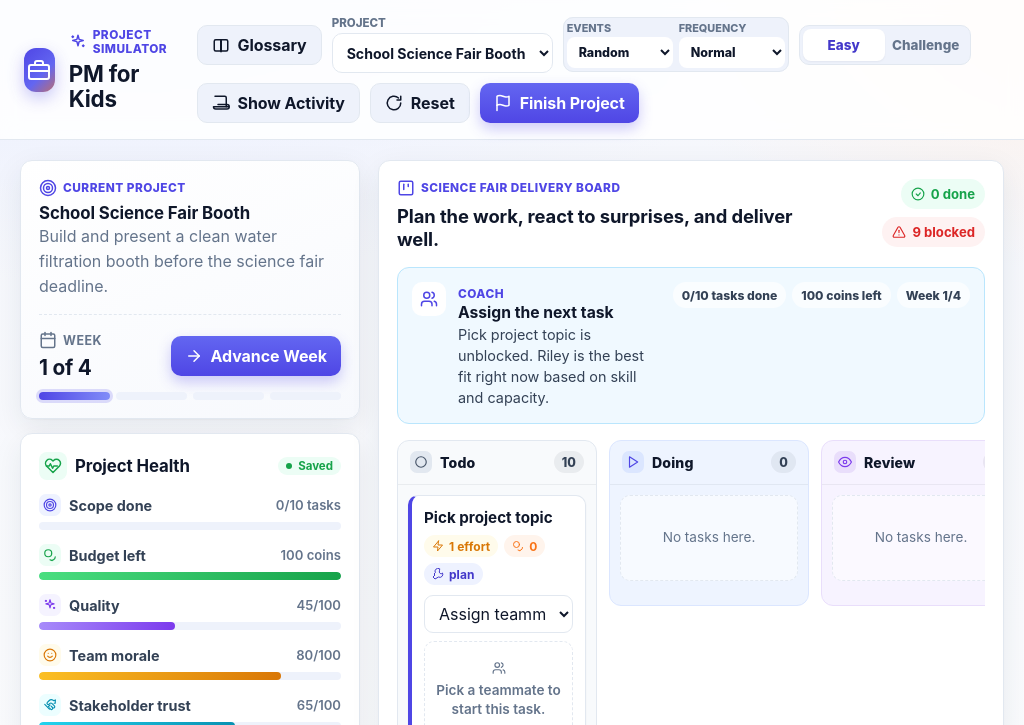
App › switches between JSON-backed scenarios
Select "Birthday Party Plan" in the dropdown labelled "Project". click: (442, 53)
box: 332,33 -> 553,73
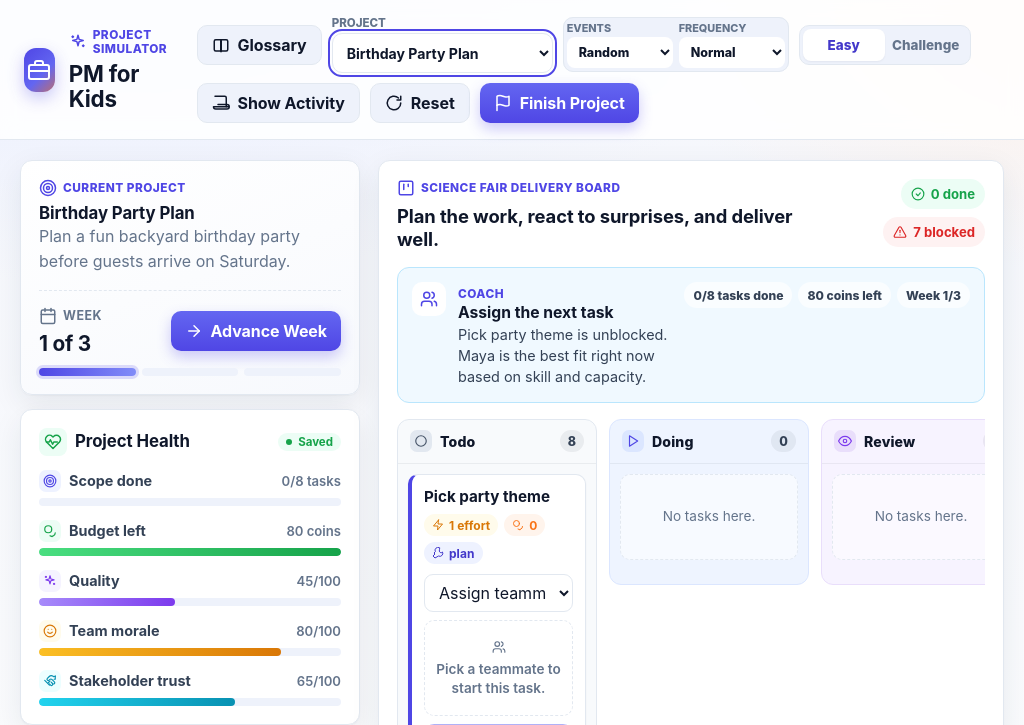
Expected: the heading "Birthday Party Plan" is shown, 39,203 -> 195,223
Expected: the heading "Pick party theme" is shown, 424,487 -> 550,506
